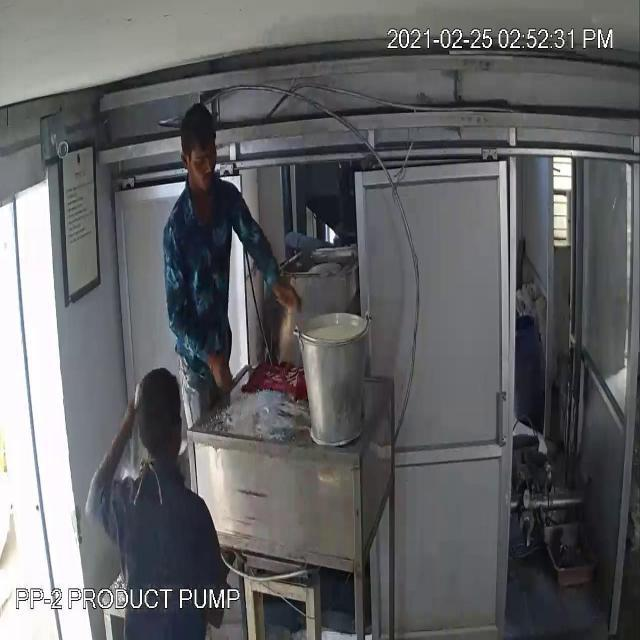no hat: (133, 361, 186, 444), (176, 104, 226, 167)
